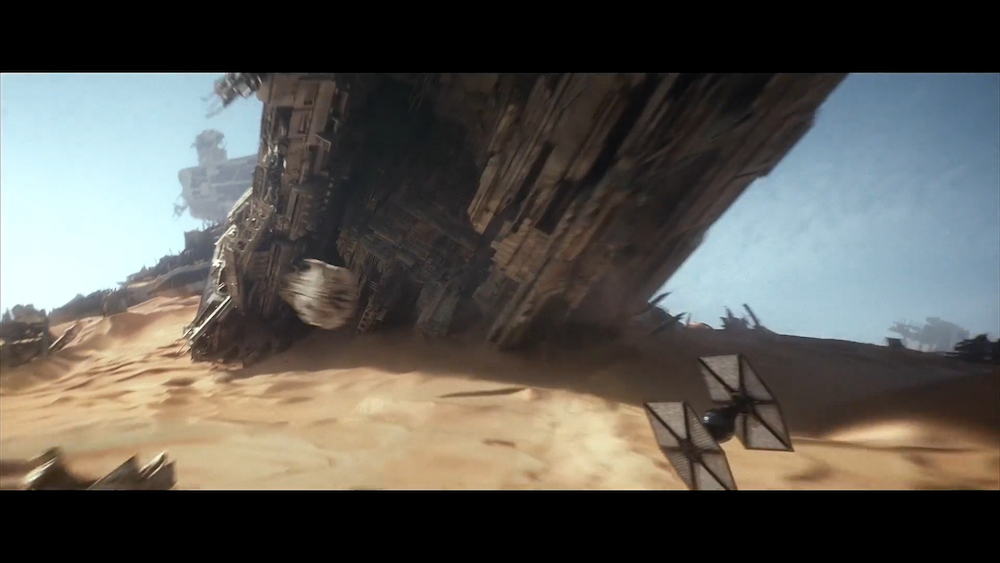Millennium Falcon: (273, 259, 359, 330)
Tie Fighter: (643, 352, 794, 489), (635, 292, 688, 337)
